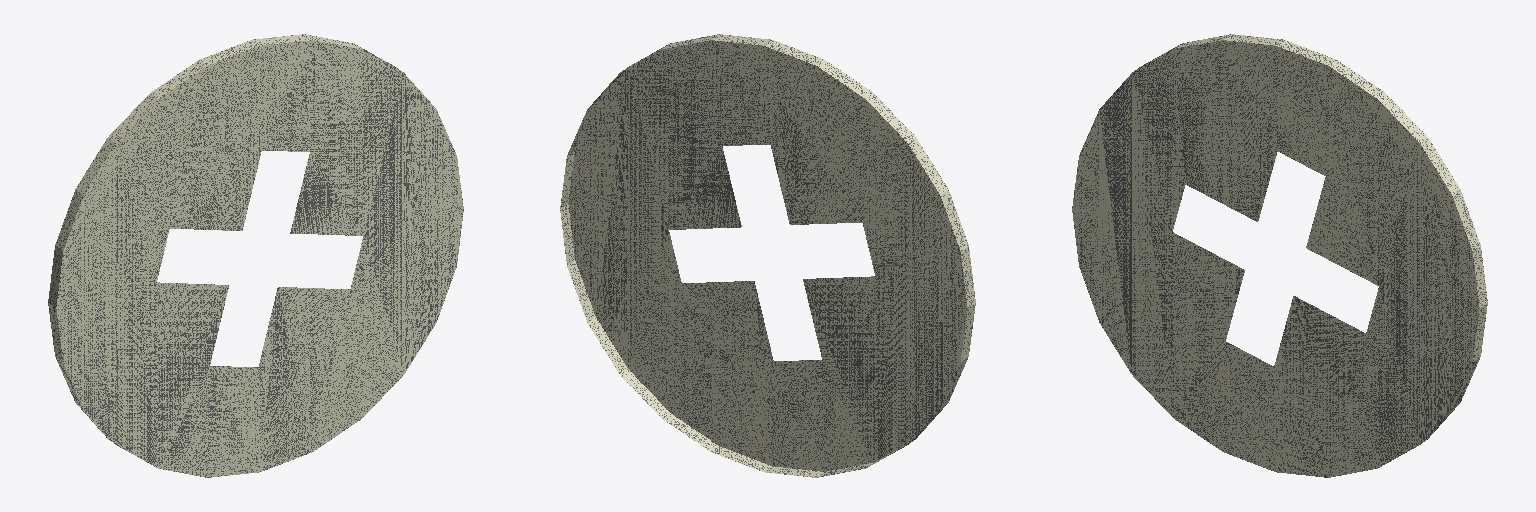
The model's file is original-81.obj.
The picture shows the model from 3 angles: view 1: azimuth 30°, elevation 25°; view 2: azimuth 150°, elevation 25°; view 3: azimuth 330°, elevation 25°; orthographic projection.
Visible parts, largest first — view 1: #ID324; view 2: #ID324; view 3: #ID324.
Part boxes in pixels (bbox=[...]): #ID324: bbox=[48, 34, 463, 477]; #ID324: bbox=[560, 34, 975, 477]; #ID324: bbox=[1072, 34, 1487, 477].
Bounding box in the file's own units: 0.0266 × 0.0266 × 0.0009.